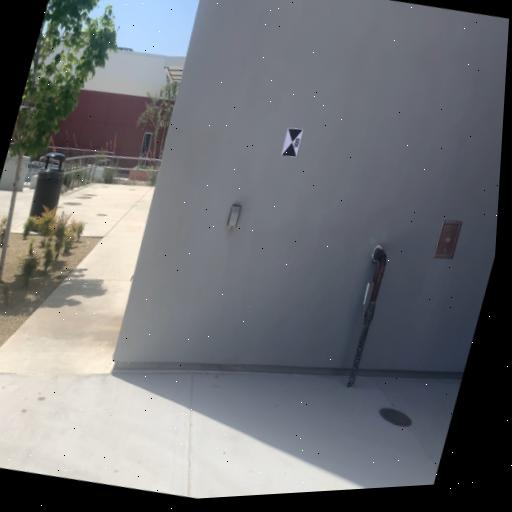target8: (280, 126, 304, 159)
